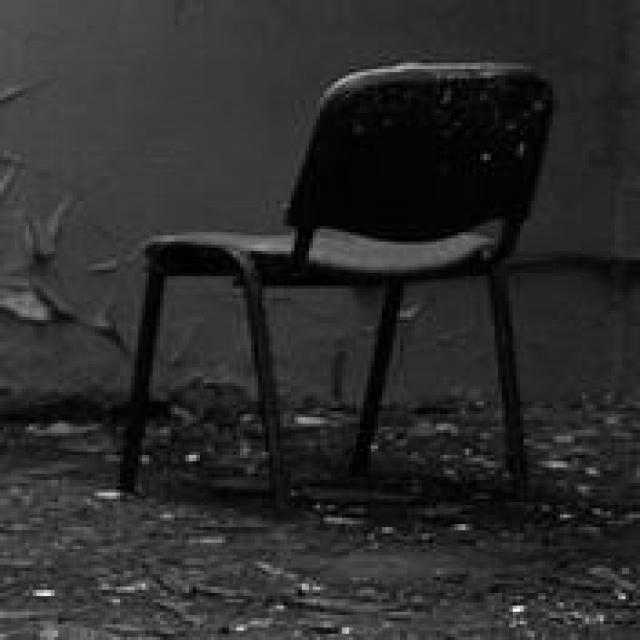chair: (108, 61, 575, 528)
